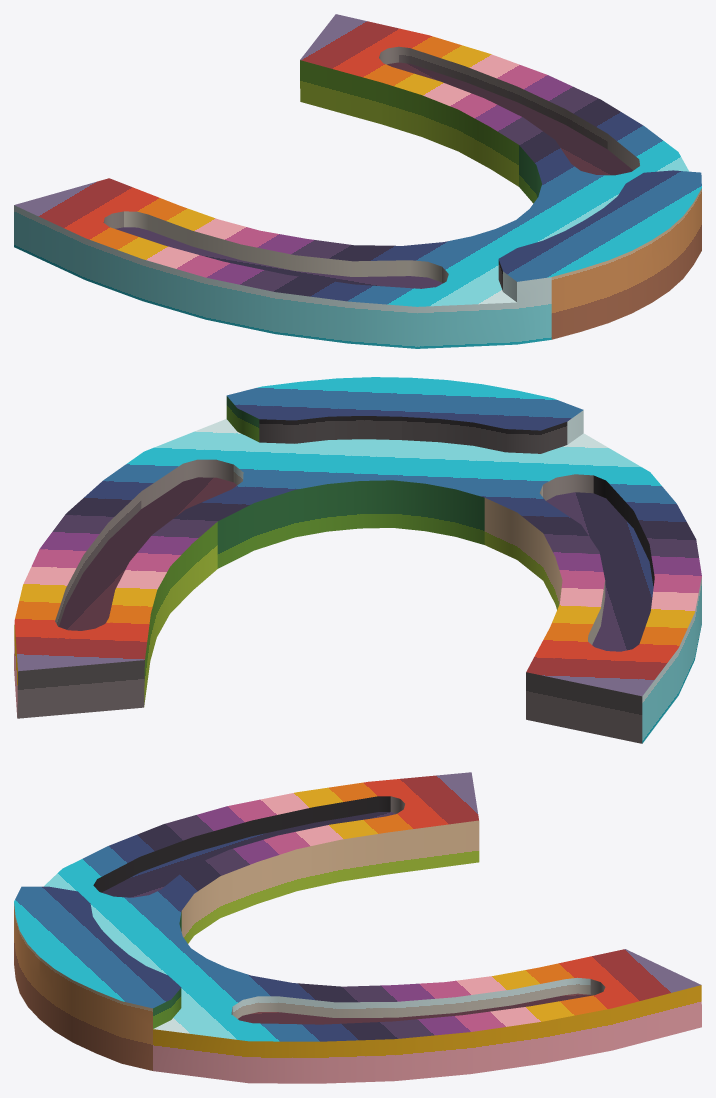
Rendered from HorseShoe.fbx.
The picture shows the model from 3 angles, top to bottom: view 1: azimuth 30°, elevation 25°; view 2: azimuth 150°, elevation 25°; view 3: azimuth 270°, elevation 25°; orthographic projection. The views are drawn at different scales.
Parts seen in each view (by area): view 1: Circle.009; view 2: Circle.009; view 3: Circle.009.
Boxes of the visible parts, x1,y1,x2,y2 form: Circle.009: [14, 14, 701, 348]; Circle.009: [14, 377, 701, 743]; Circle.009: [14, 772, 701, 1083].
Size of the model in its own units: 18.83 by 2.04 by 20.31.
